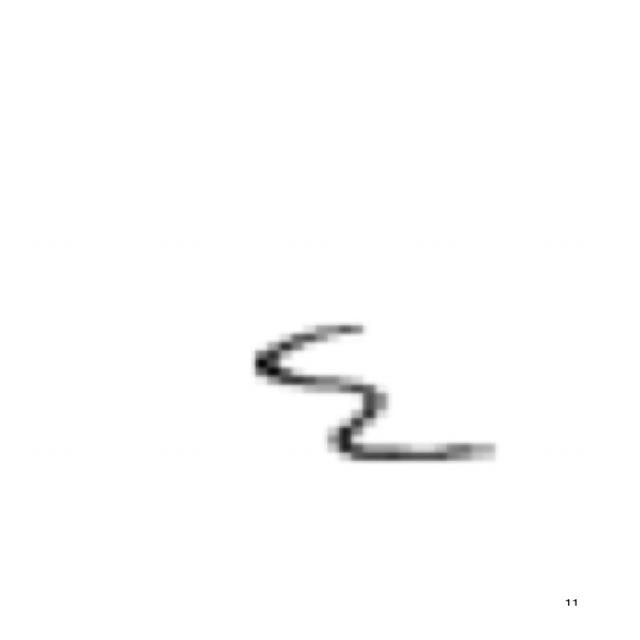4 -four-: (239, 314, 512, 475)
